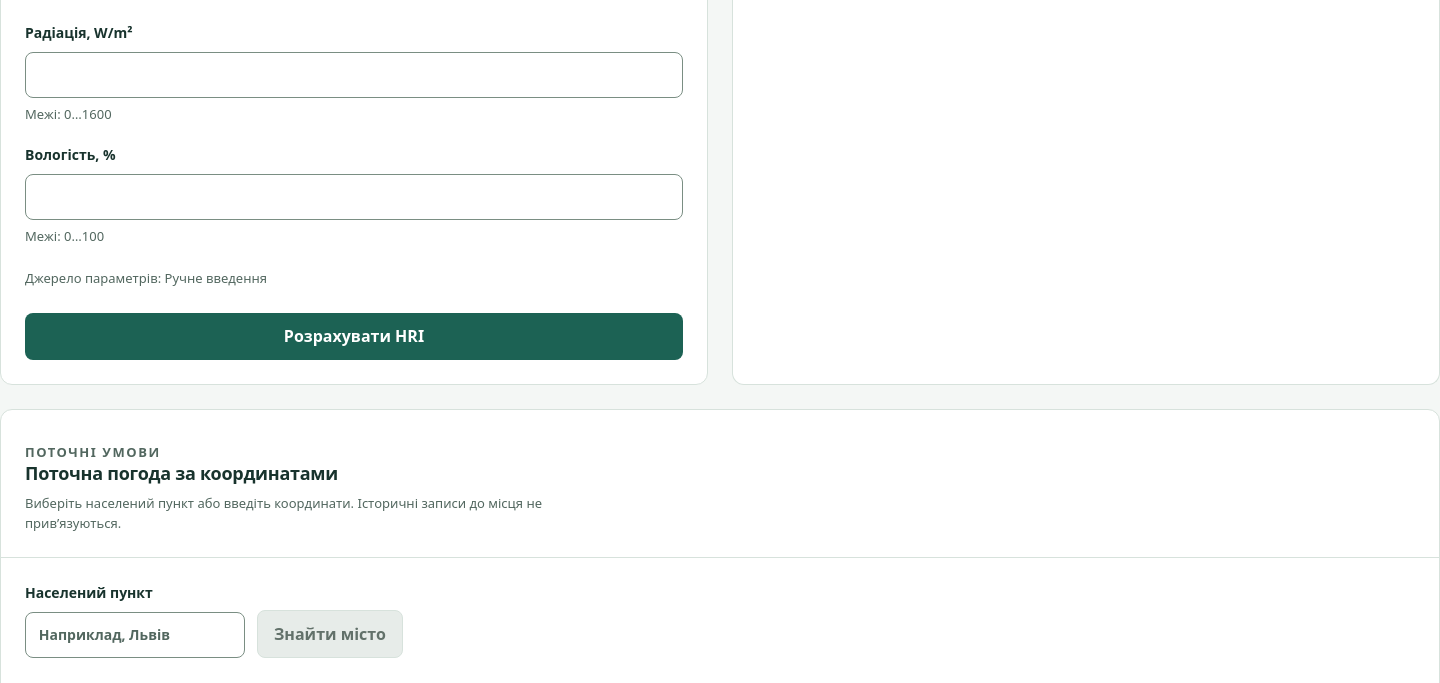
Scenario: HRI scenario › rejects empty and invalid parameters before HTTP
(page scrolled)
Click the button "Розрахувати HRI": [354, 336] box [25,313,683,360]
(page scrolled)
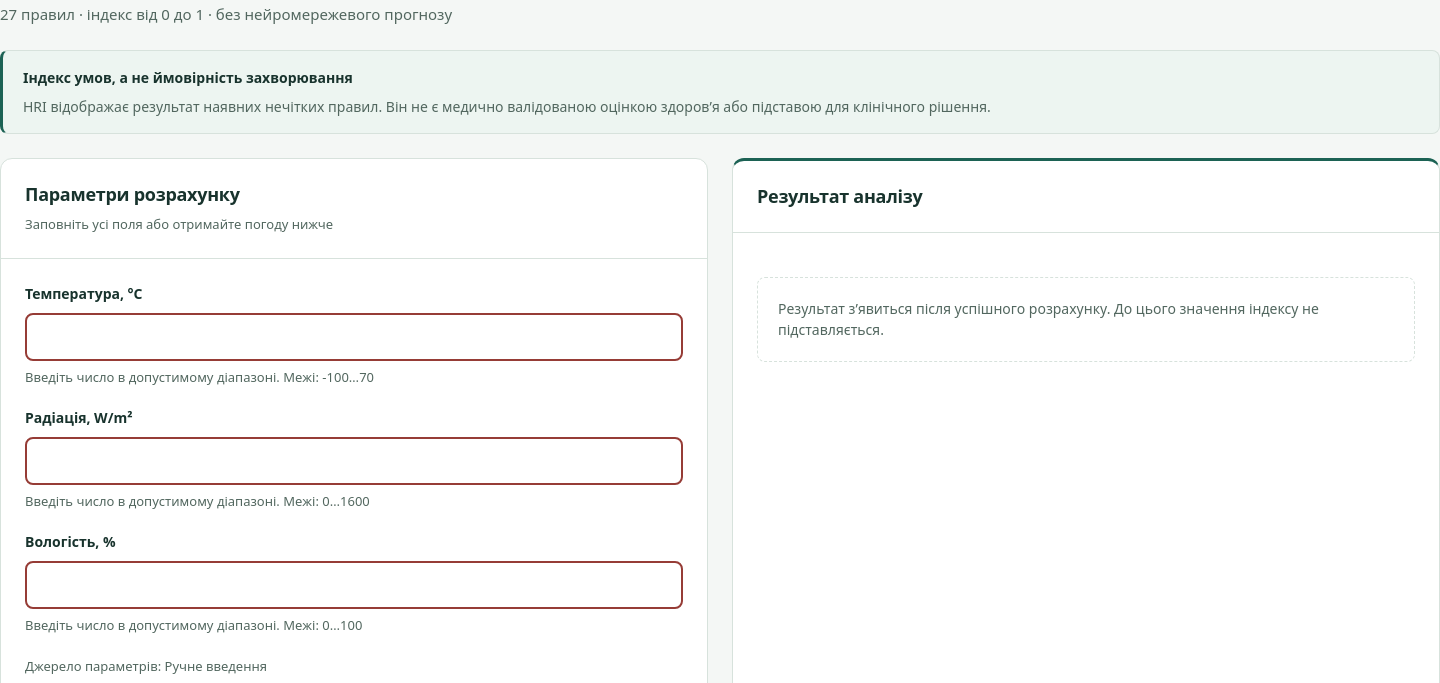
Expected: the number field labelled "Температура, °C" is marked as invalid
In the number field labelled "Температура, °C": [354, 336] box [25,312,683,360], type "20"
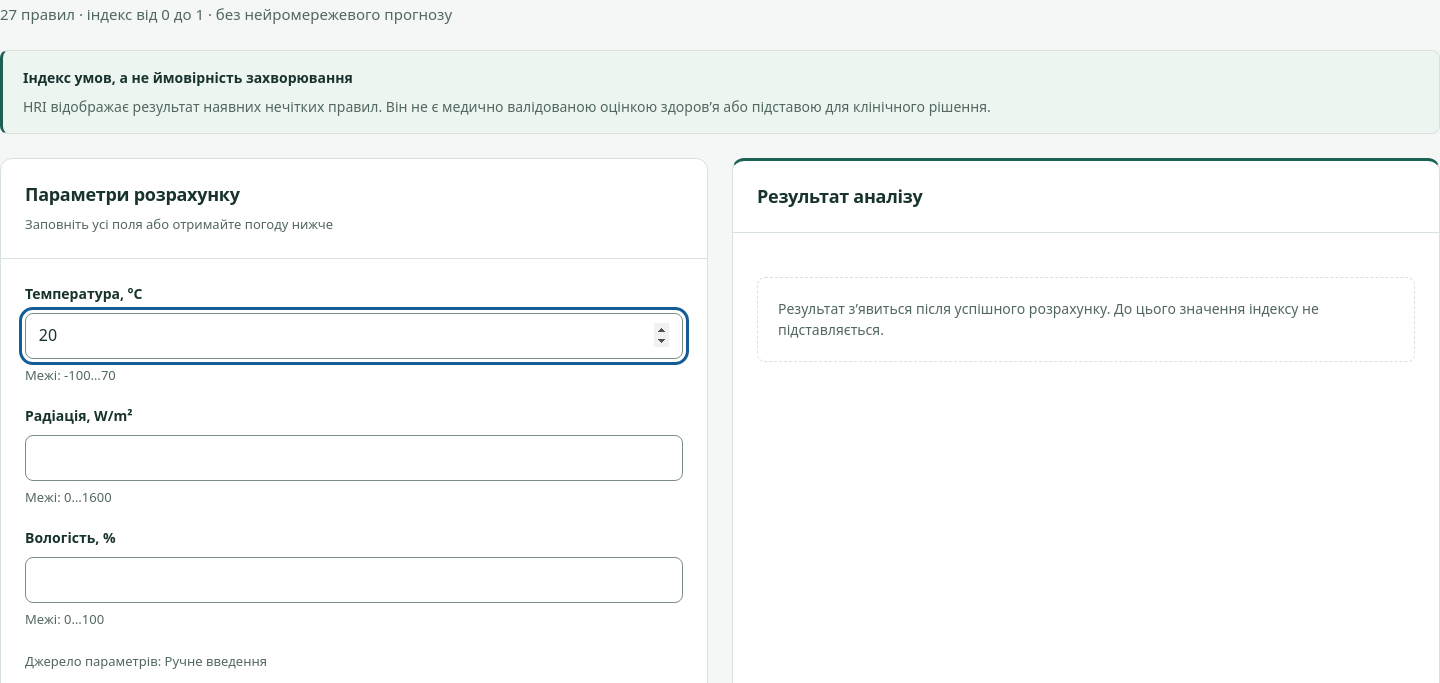
In the number field labelled "Радіація, W/m²": [354, 458] box [25,435,683,481], type "180"
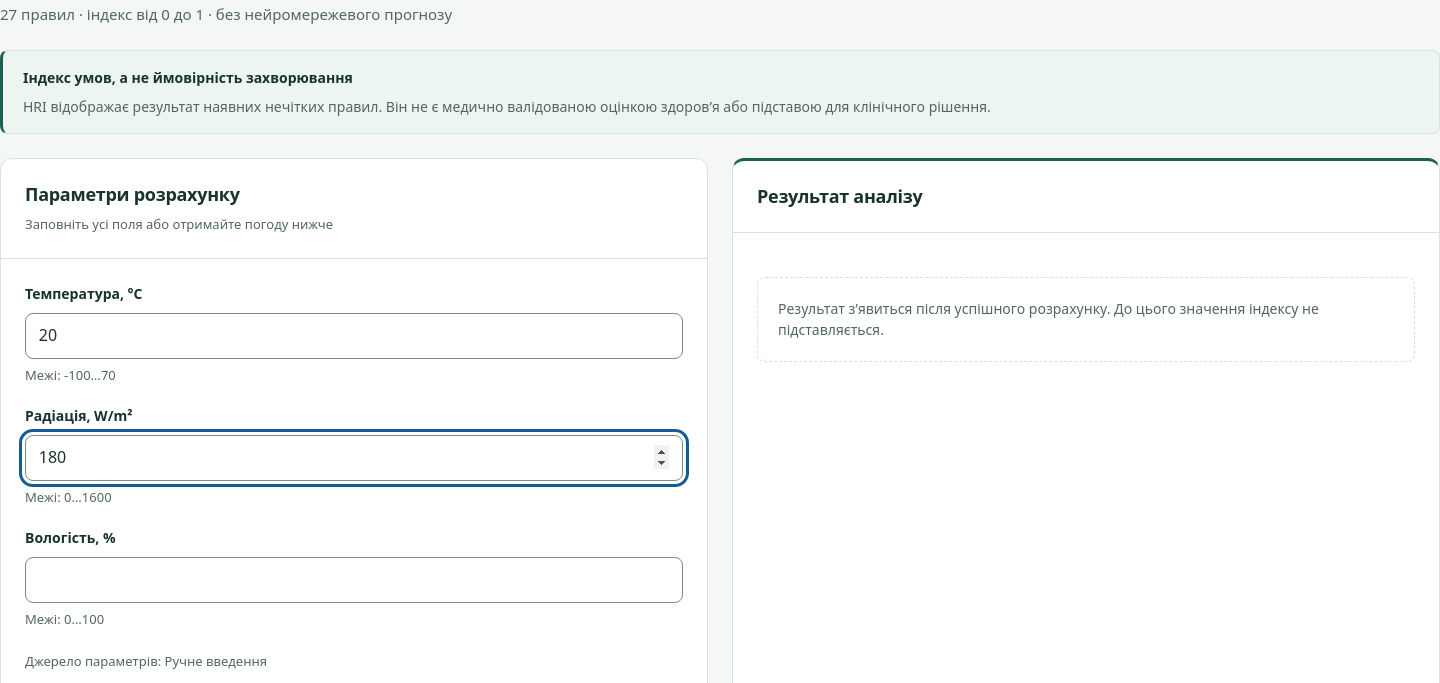
In the number field labelled "Вологість, %": [354, 580] box [25,557,683,603], type "150"
(page scrolled)
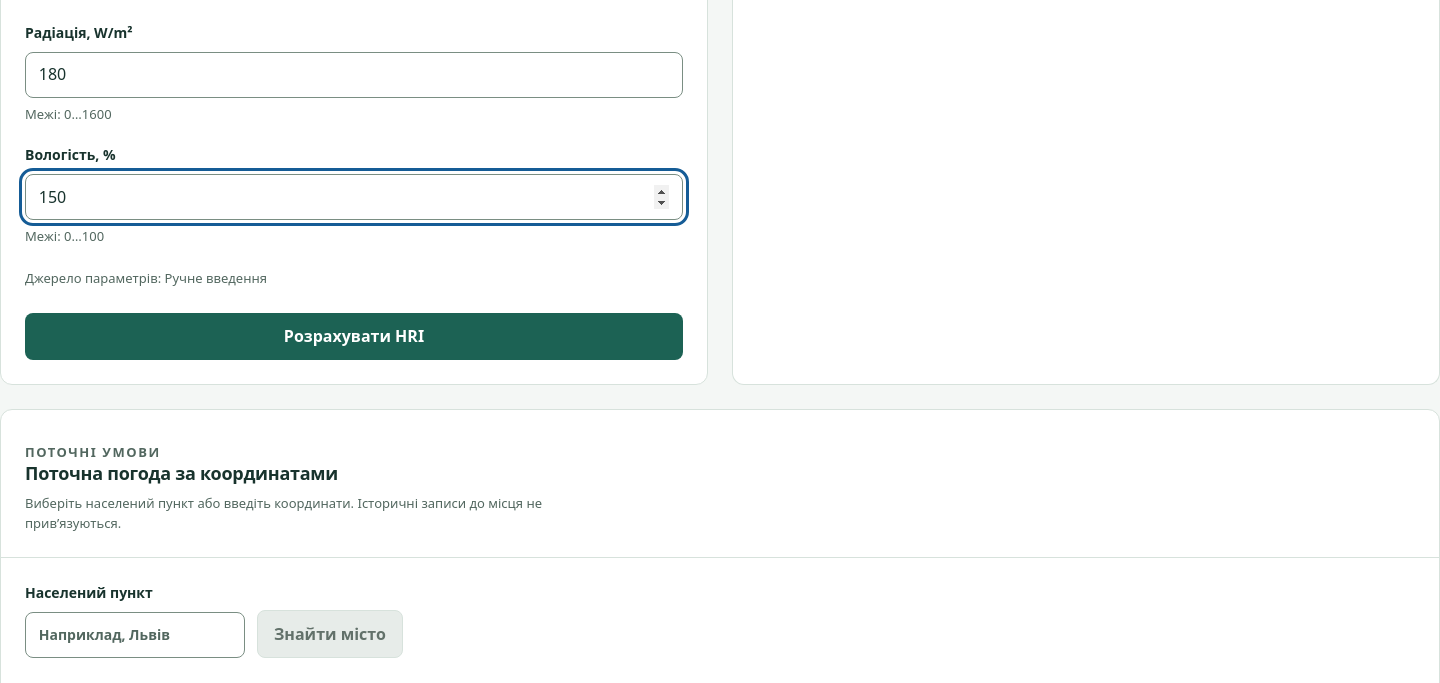
Click the button "Розрахувати HRI": [354, 336] box [25,313,683,360]
(page scrolled)
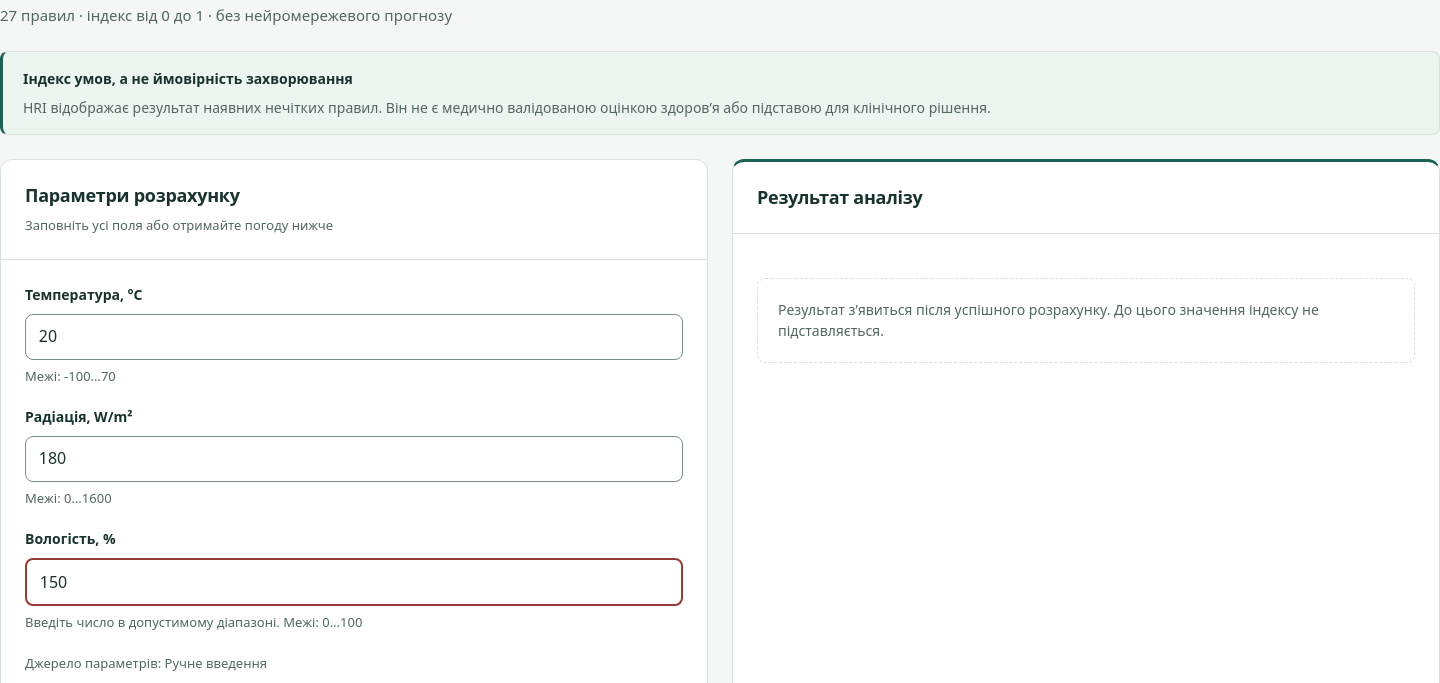
Expected: the number field labelled "Вологість, %" is marked as invalid, [25,558,683,606]
Expected: the number field labelled "Температура, °C" does not have attribute aria-invalid, [25,314,683,360]
